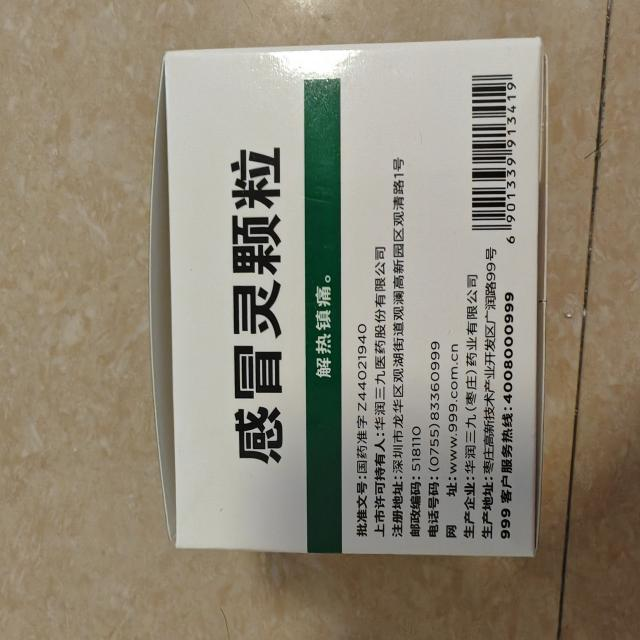box: (136, 28, 554, 568)
